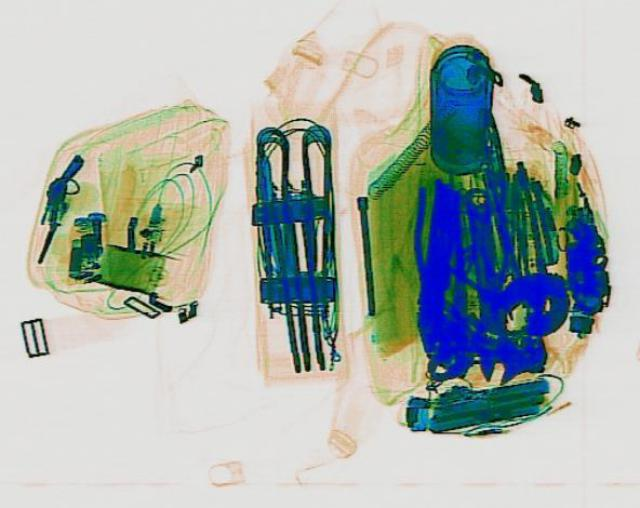Wrench: (456, 184, 522, 383)
